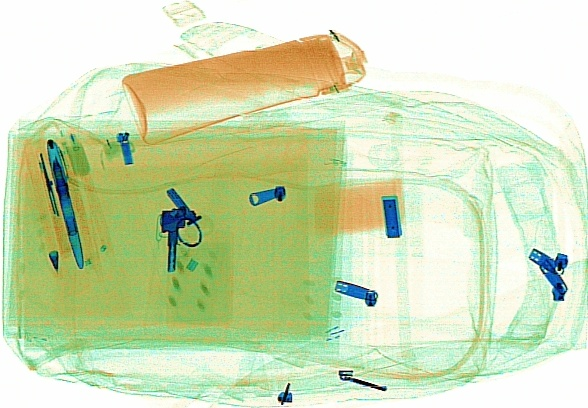scissors: (37, 152, 71, 258)
